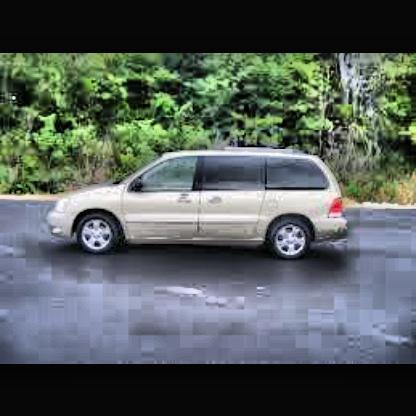Ford Freestar Minivan 2007: (51, 142, 348, 265)
